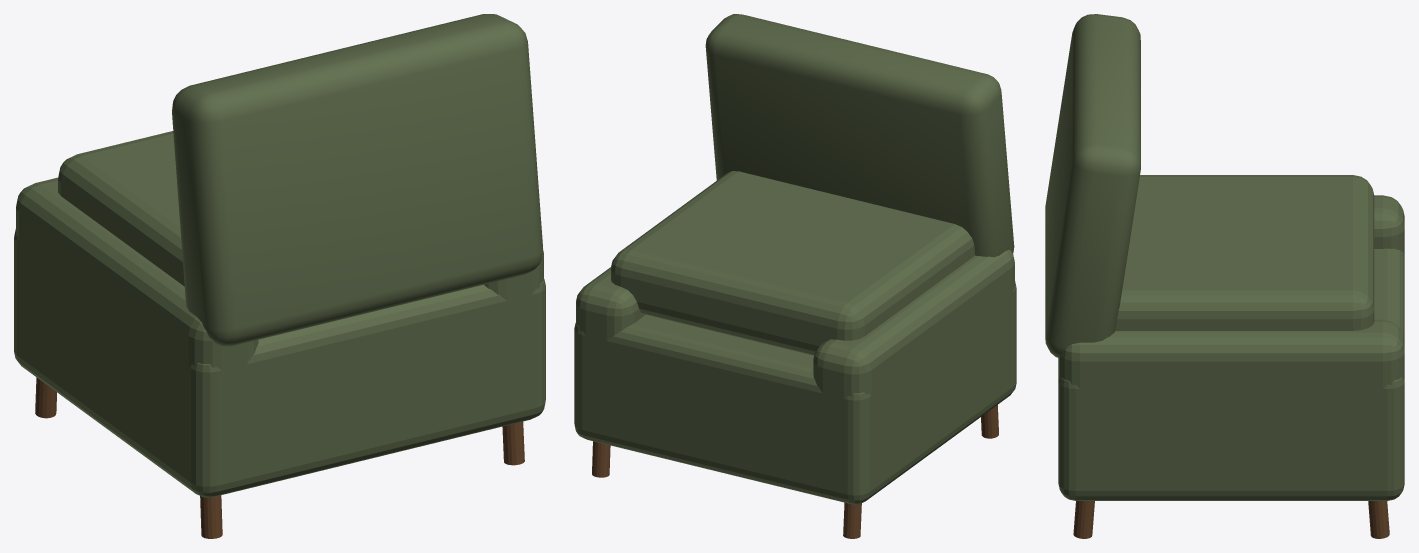
The model's file is 20_sofa.fbx.
The picture shows the model from 3 angles, left to right: view 1: azimuth 30°, elevation 25°; view 2: azimuth 150°, elevation 25°; view 3: azimuth 270°, elevation 25°; orthographic projection. The views are drawn at different scales.
Visible parts, largest first — view 1: ChairBack, ChairBase, ChairArm, ChairSeat, ChairArm.001, ChairLeg.002, ChairLeg.003, ChairLeg; view 2: ChairBack, ChairSeat, ChairBase, ChairArm, ChairArm.001, ChairLeg, ChairLeg.001; view 3: ChairArm.001, ChairSeat, ChairBack, ChairBase, ChairArm, ChairLeg.001, ChairLeg.003.
Part boxes in pixels (x1=…): ChairBack: x1=172, y1=14, x2=542, y2=346; ChairBase: x1=14, y1=229, x2=545, y2=497; ChairArm: x1=16, y1=177, x2=258, y2=479; ChairSeat: x1=58, y1=131, x2=184, y2=286; ChairArm.001: x1=484, y1=250, x2=543, y2=300; ChairLeg.002: x1=200, y1=495, x2=222, y2=538; ChairLeg.003: x1=502, y1=421, x2=524, y2=465; ChairLeg: x1=35, y1=377, x2=56, y2=418; ChairBack: x1=705, y1=14, x2=1014, y2=257; ChairSeat: x1=611, y1=171, x2=975, y2=355; ChairBase: x1=574, y1=281, x2=1016, y2=504; ChairArm: x1=813, y1=250, x2=1014, y2=489; ChairArm.001: x1=576, y1=267, x2=645, y2=431; ChairLeg: x1=843, y1=502, x2=861, y2=538; ChairLeg.001: x1=592, y1=441, x2=610, y2=477; ChairArm.001: x1=1058, y1=319, x2=1404, y2=486; ChairSeat: x1=1115, y1=175, x2=1374, y2=330; ChairBack: x1=1045, y1=14, x2=1140, y2=357; ChairBase: x1=1058, y1=248, x2=1404, y2=500; ChairArm: x1=1374, y1=195, x2=1404, y2=254; ChairLeg.001: x1=1368, y1=501, x2=1389, y2=538; ChairLeg.003: x1=1073, y1=501, x2=1094, y2=538.
Bounding box in the file's own units: 0.84 × 0.9929 × 0.8305.
